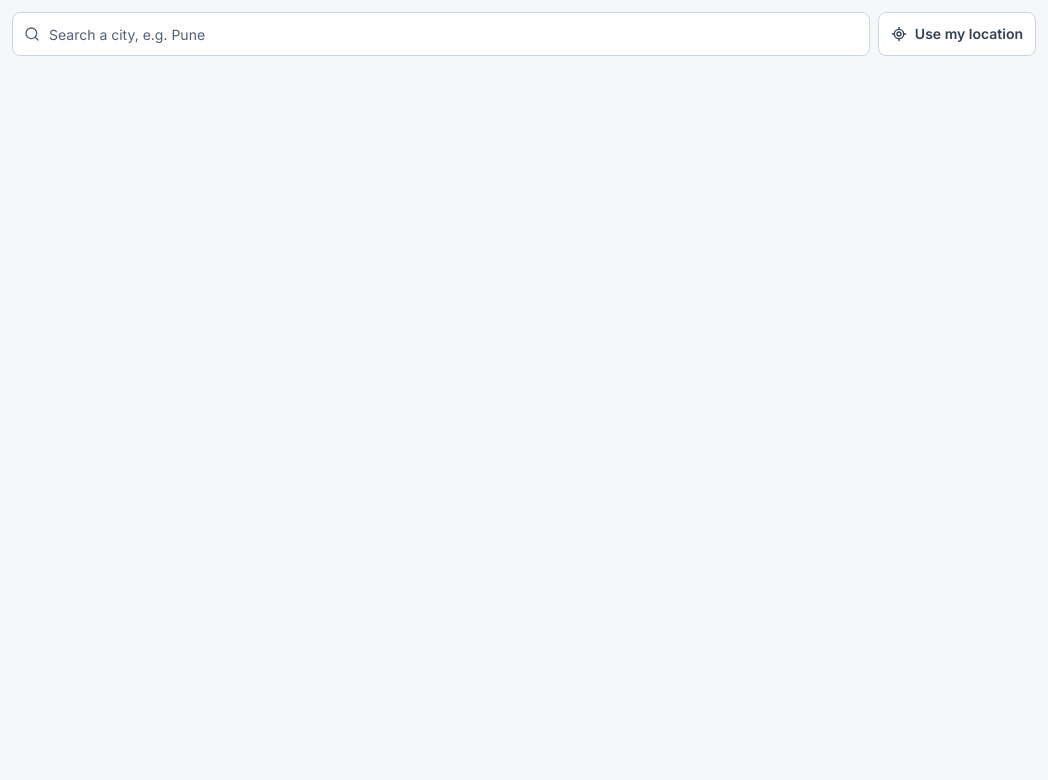
Test: Use my location › stores a rounded location after the browser grants permission
Click the button "Use my location".
click(957, 34)  # box [878,12,1036,56]
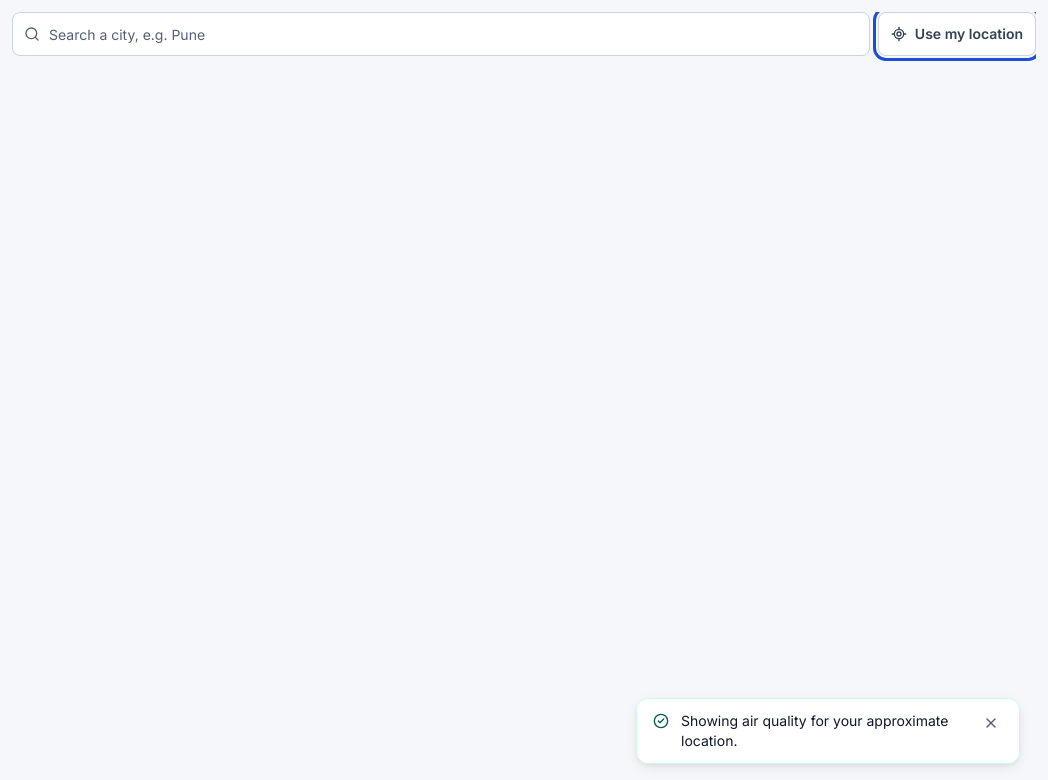
Check: the text "Showing air quality for your approximate location." is shown, box [681,711,967,751]
